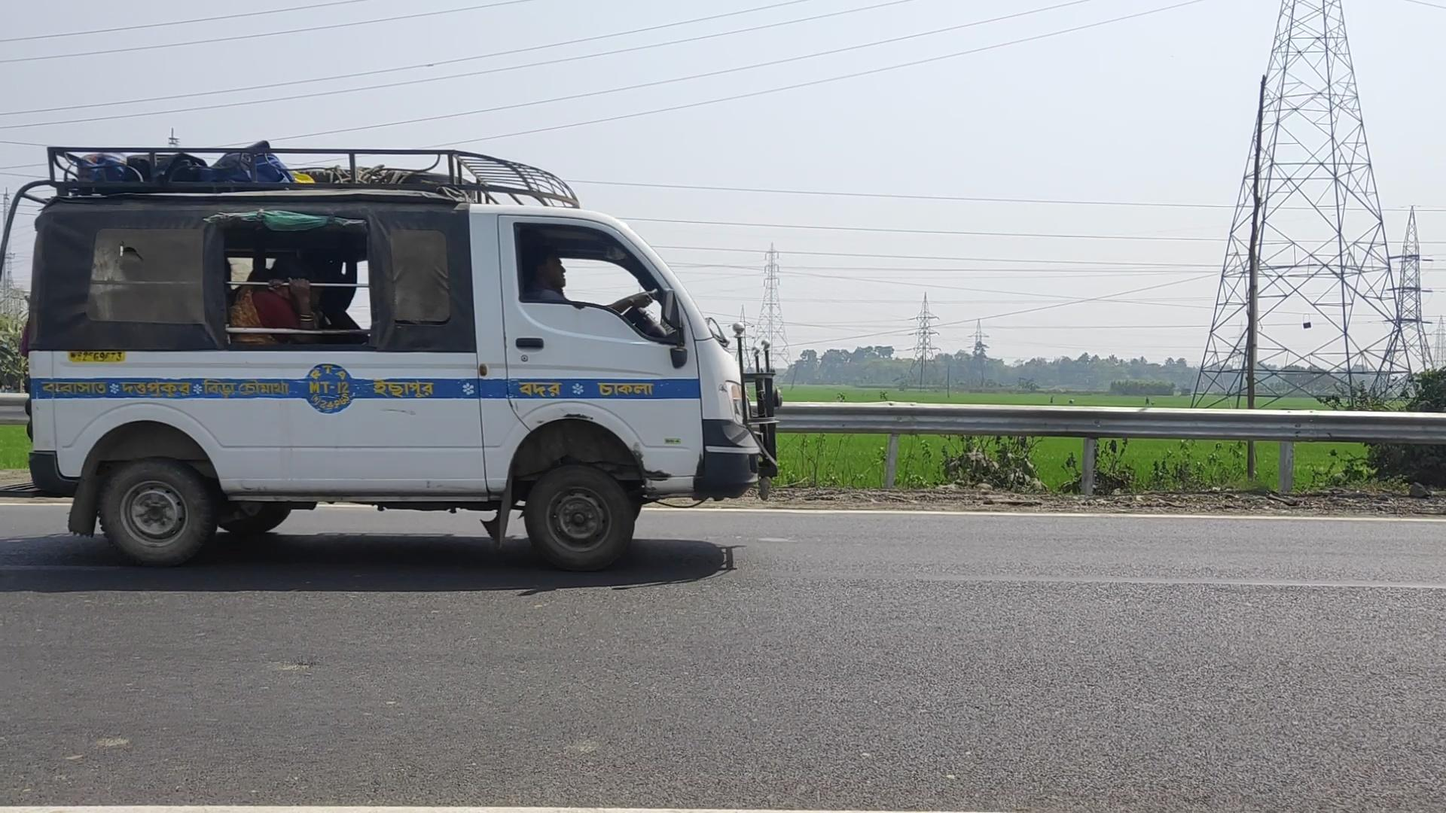van: (1, 143, 780, 572)
